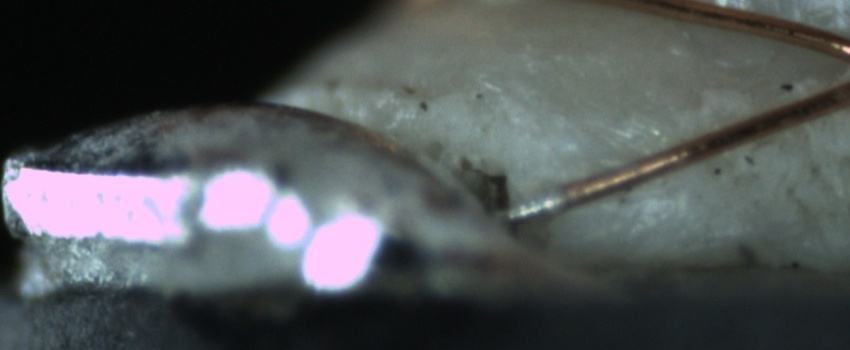TS: (500, 190, 567, 222)
